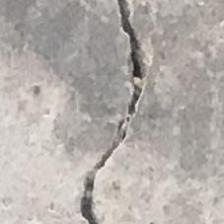Crack: (74, 0, 173, 224)
